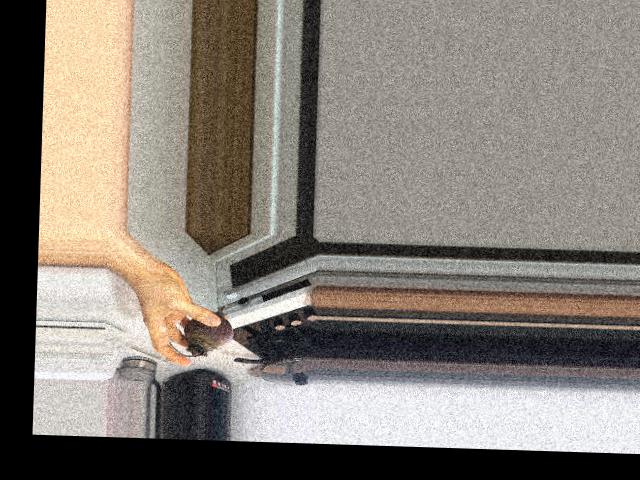beet: (169, 302, 234, 357)
